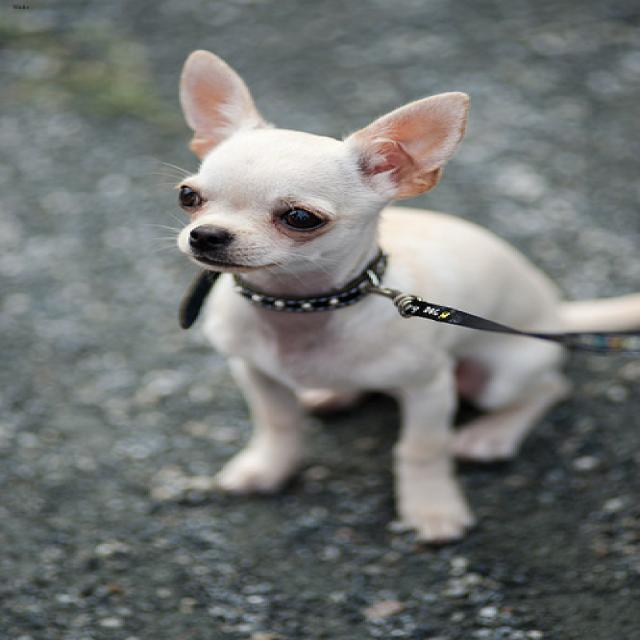dog-chihuahua: (140, 41, 636, 553)
